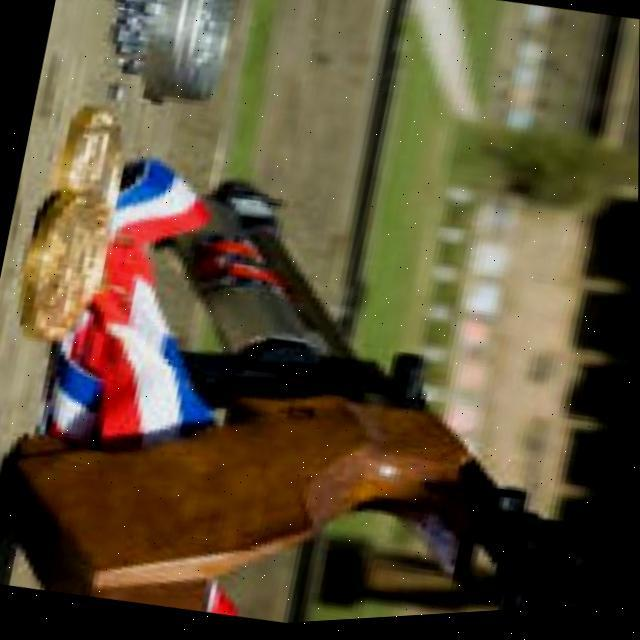gun: (0, 126, 639, 640)
